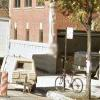Bicycle: (48, 65, 85, 97)
